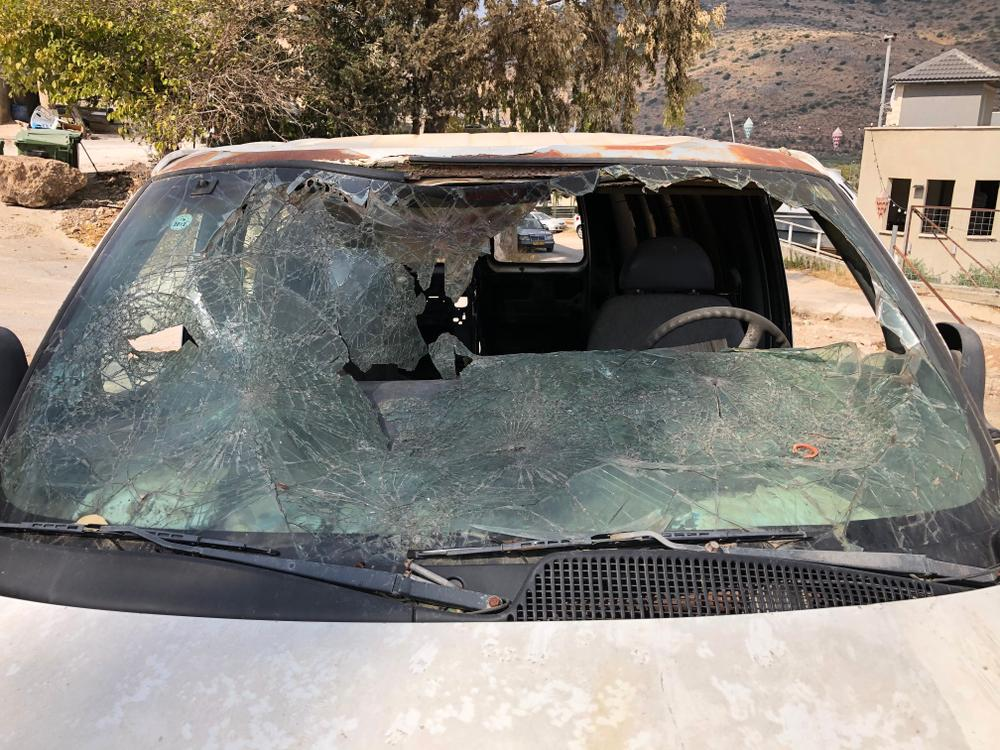glass shatter: (0, 162, 1000, 573)
